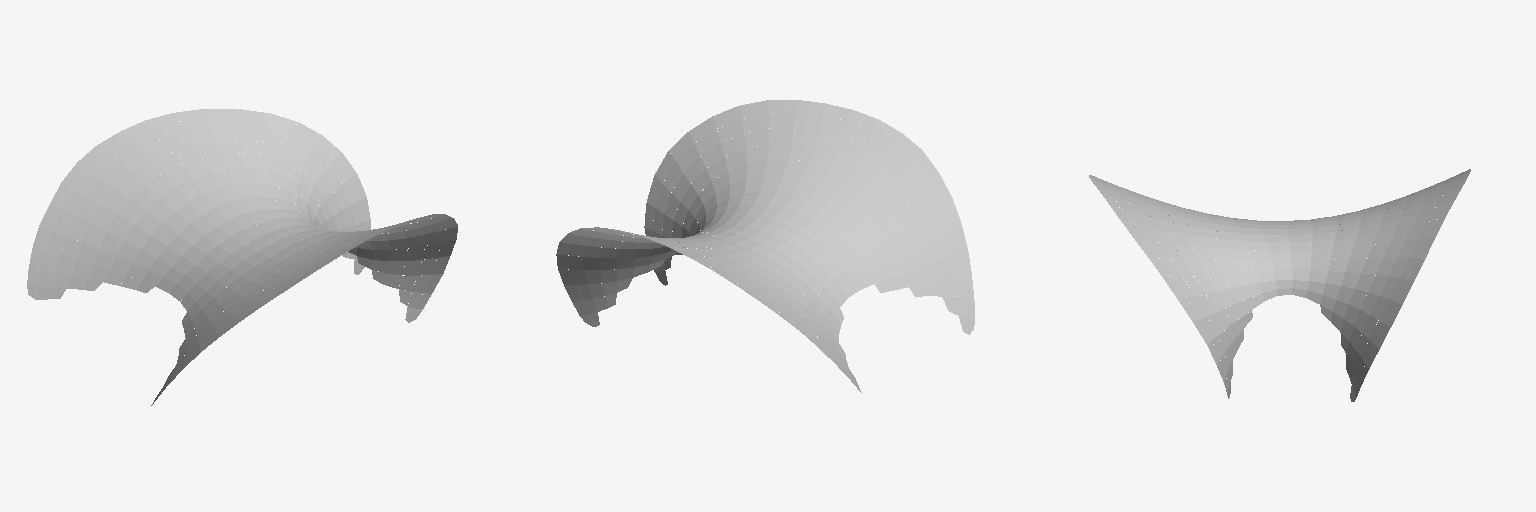
Rendered from Example_2_Panels.obj.
3 renders of one model, left to right at view 1: azimuth 30°, elevation 25°; view 2: azimuth 150°, elevation 25°; view 3: azimuth 270°, elevation 25°, orthographic.
Size of the model in its own units: 1.38 by 0.6539 by 1.42.